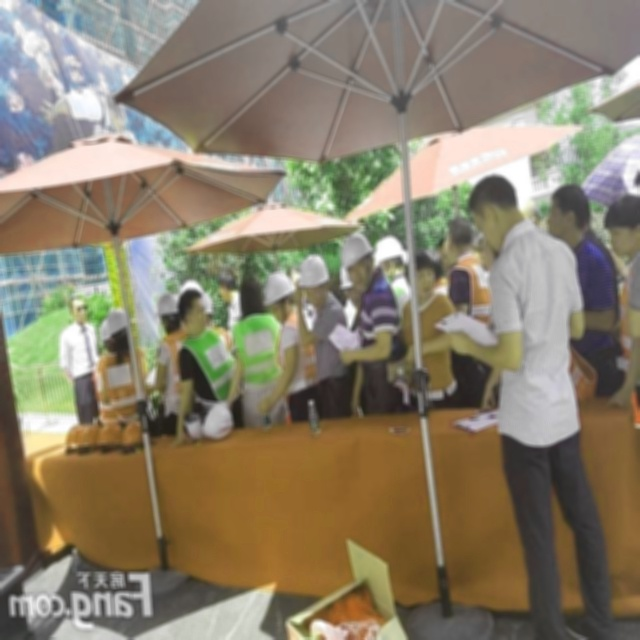Con_Casco: (341, 232, 376, 288)
Sin_Casco_Mascarrilla: (468, 172, 517, 251)
Sin_Chaleco: (492, 235, 577, 417)
